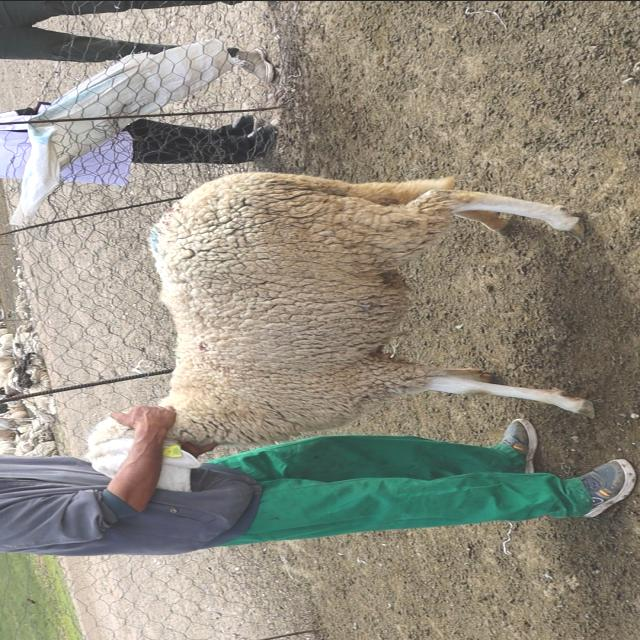Score_5: (148, 171, 594, 490)
